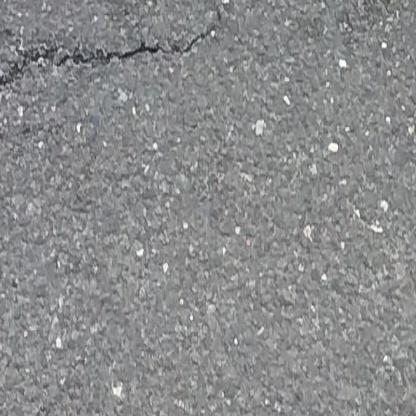Cracks: (0, 27, 202, 106)
